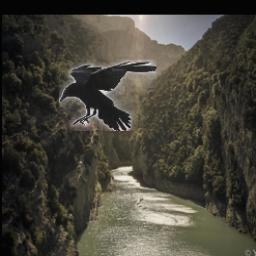Crow: (59, 61, 157, 132)
